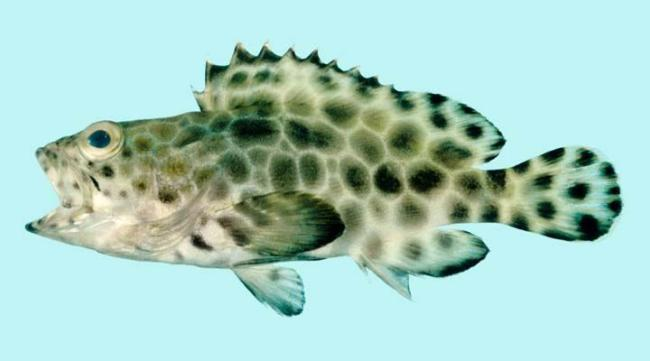fish: (25, 40, 624, 317)
